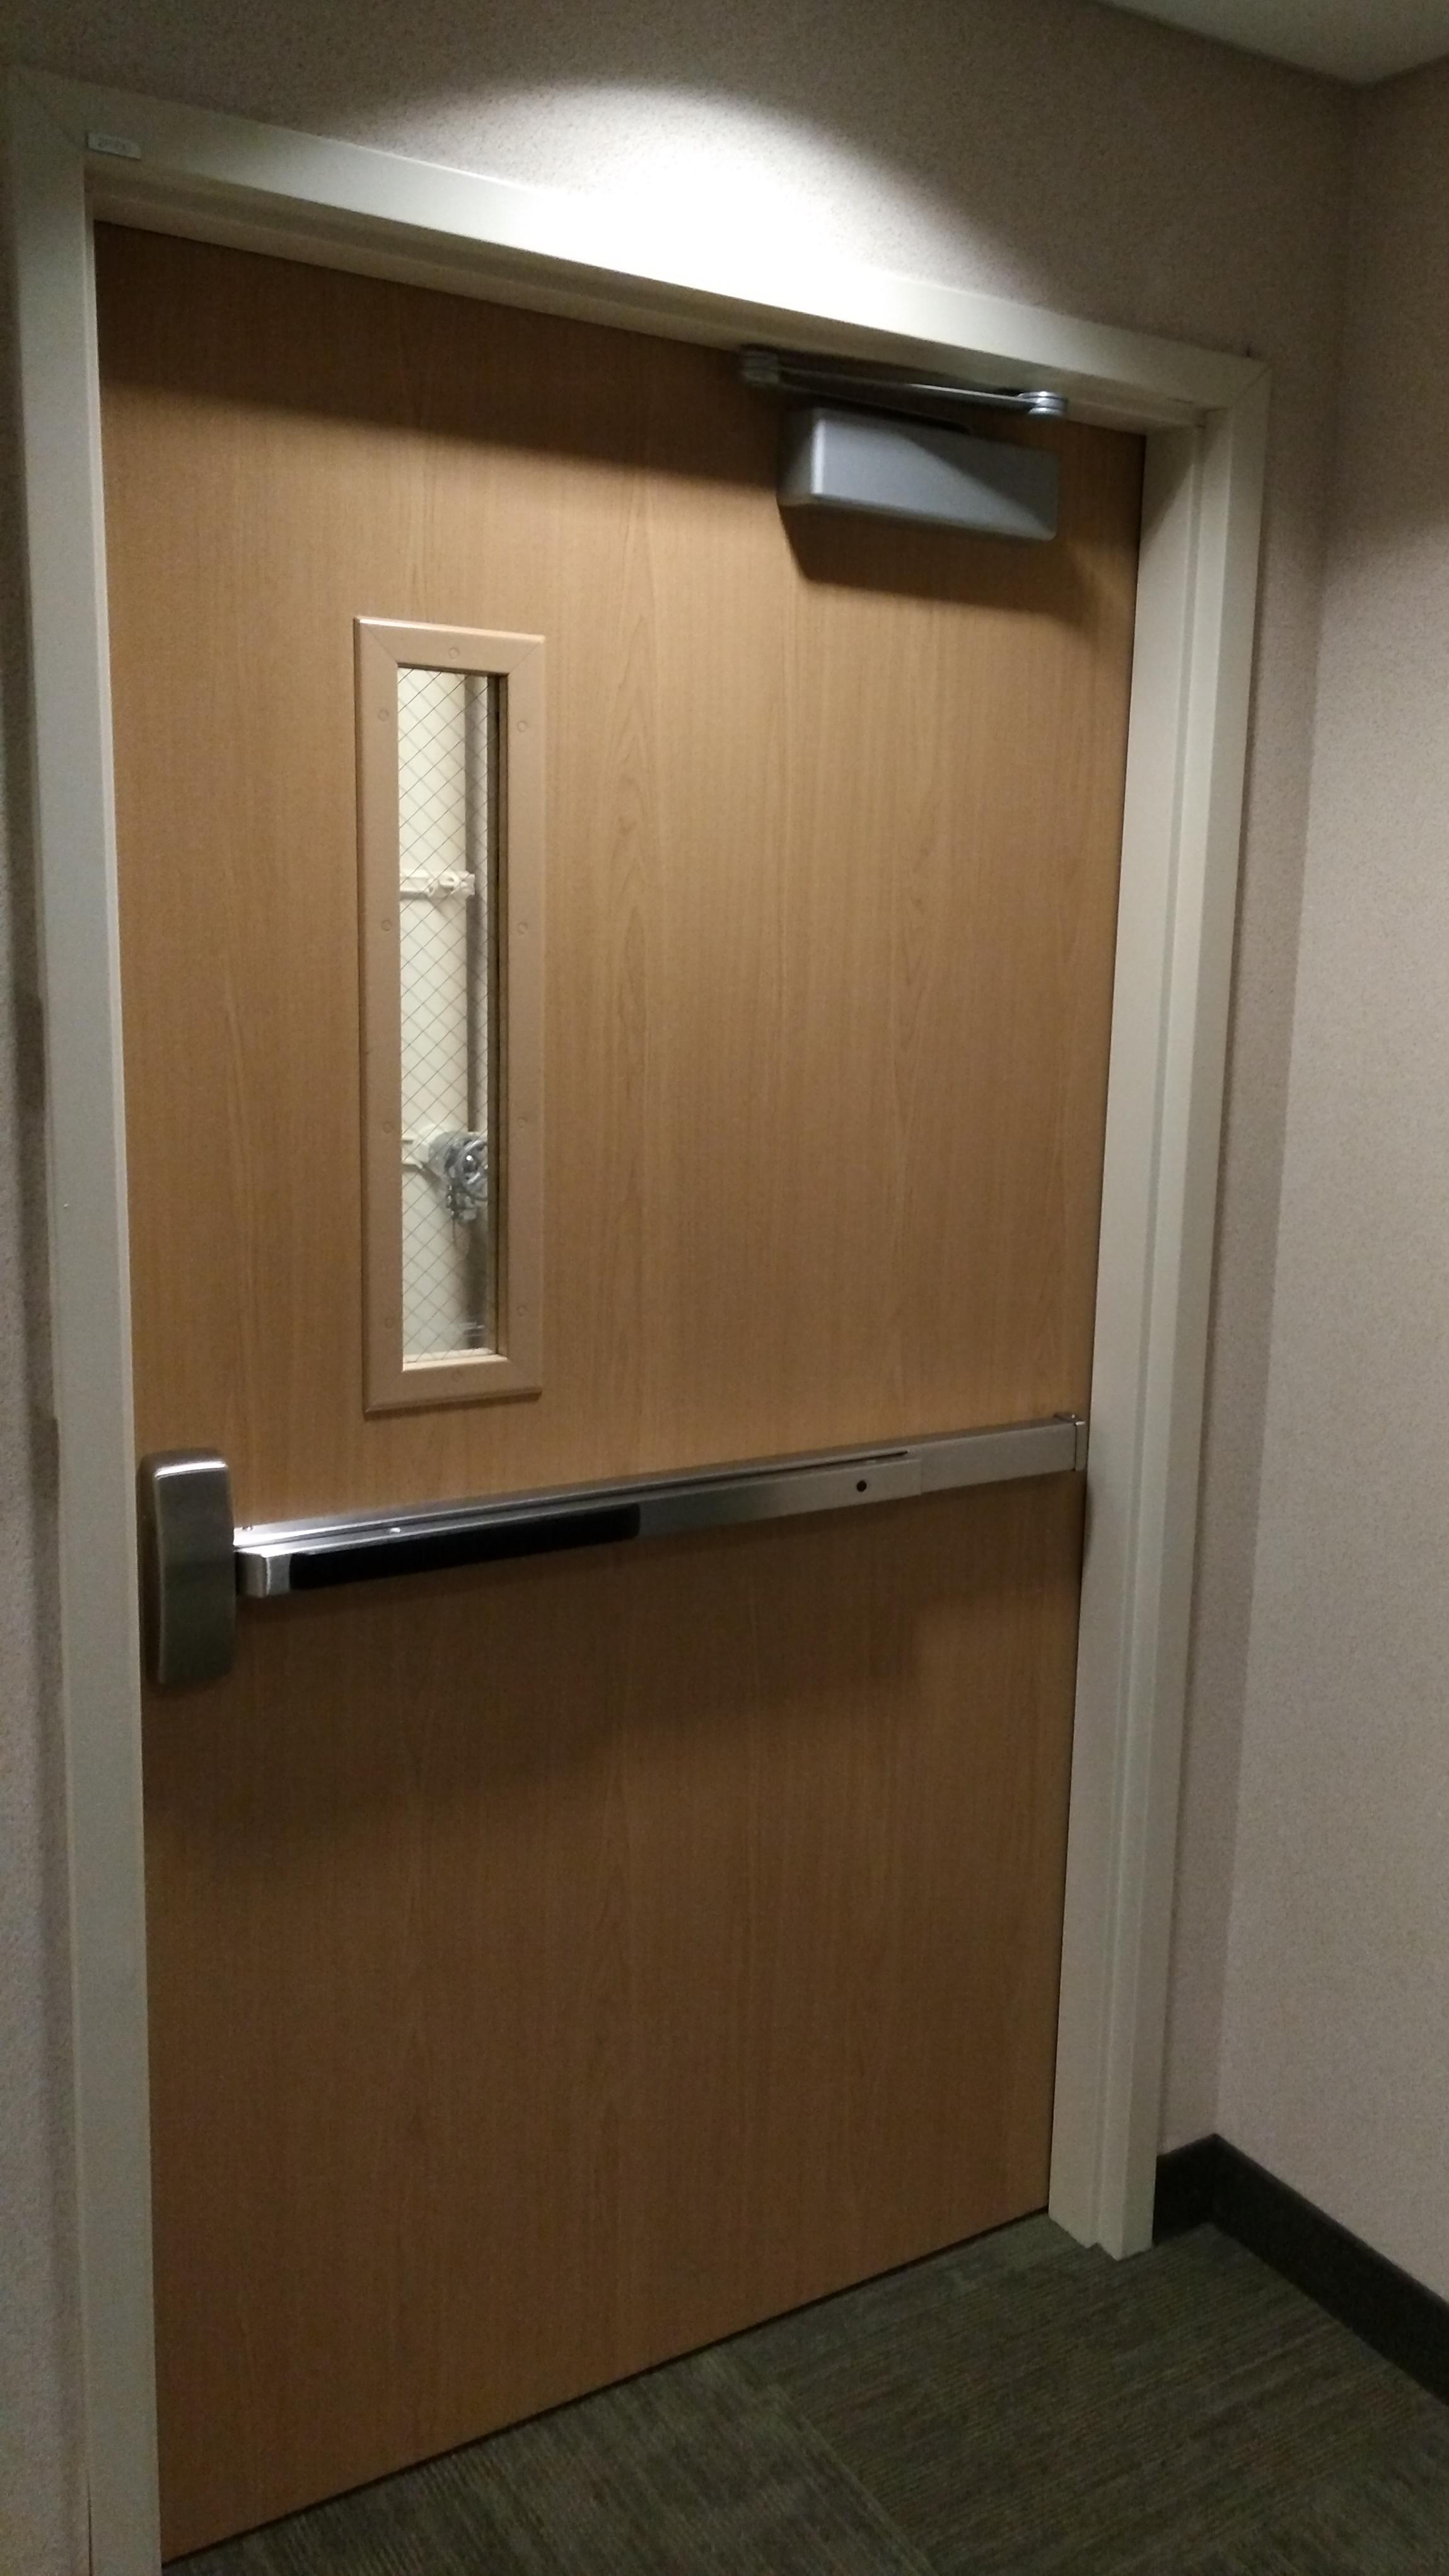door: (57, 111, 1106, 2456)
